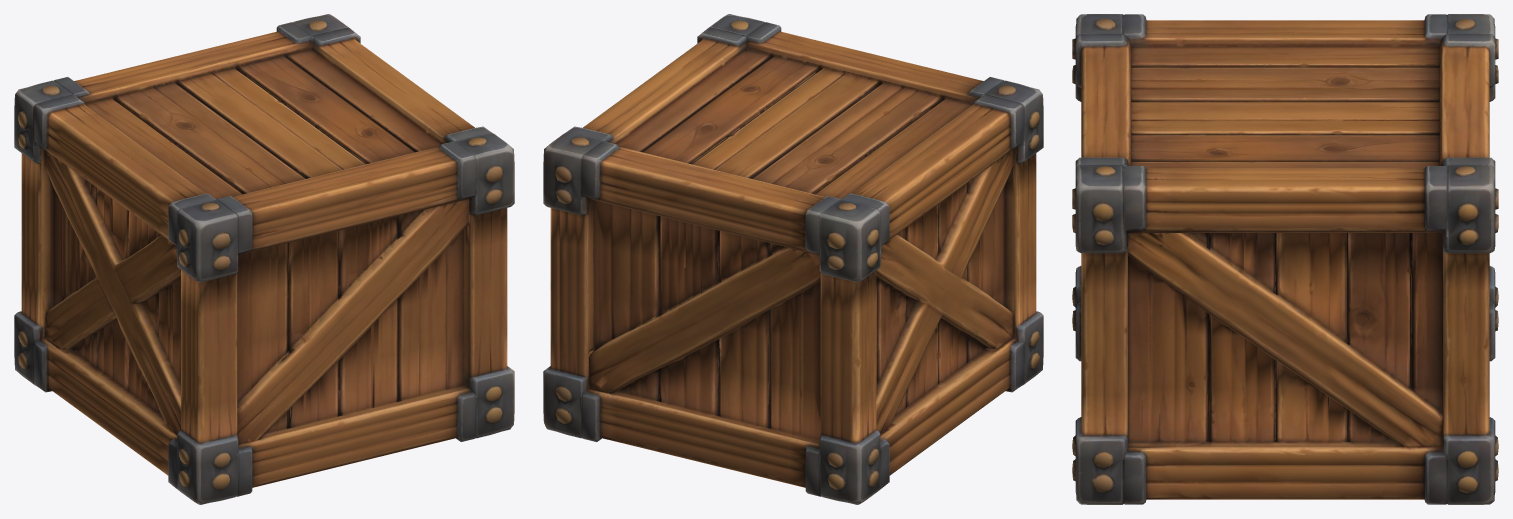
File: pack-crate.glb
The picture shows the model from 3 angles, left to right: view 1: azimuth 30°, elevation 25°; view 2: azimuth 150°, elevation 25°; view 3: azimuth 270°, elevation 25°; orthographic projection. The views are drawn at different scales.
Parts seen in each view (by area): view 1: tripo_node_c4f032ba-49f2-48c0-8e87-a90d806b9880; view 2: tripo_node_c4f032ba-49f2-48c0-8e87-a90d806b9880; view 3: tripo_node_c4f032ba-49f2-48c0-8e87-a90d806b9880.
Part boxes in pixels (x1,y1,x2,y2): tripo_node_c4f032ba-49f2-48c0-8e87-a90d806b9880: [14, 14, 514, 504]; tripo_node_c4f032ba-49f2-48c0-8e87-a90d806b9880: [543, 14, 1043, 504]; tripo_node_c4f032ba-49f2-48c0-8e87-a90d806b9880: [1072, 14, 1498, 504].
Bounding box in the file's own units: 0.9707 × 0.8252 × 0.9784.
Materials: 1 (1 with a texture image).
